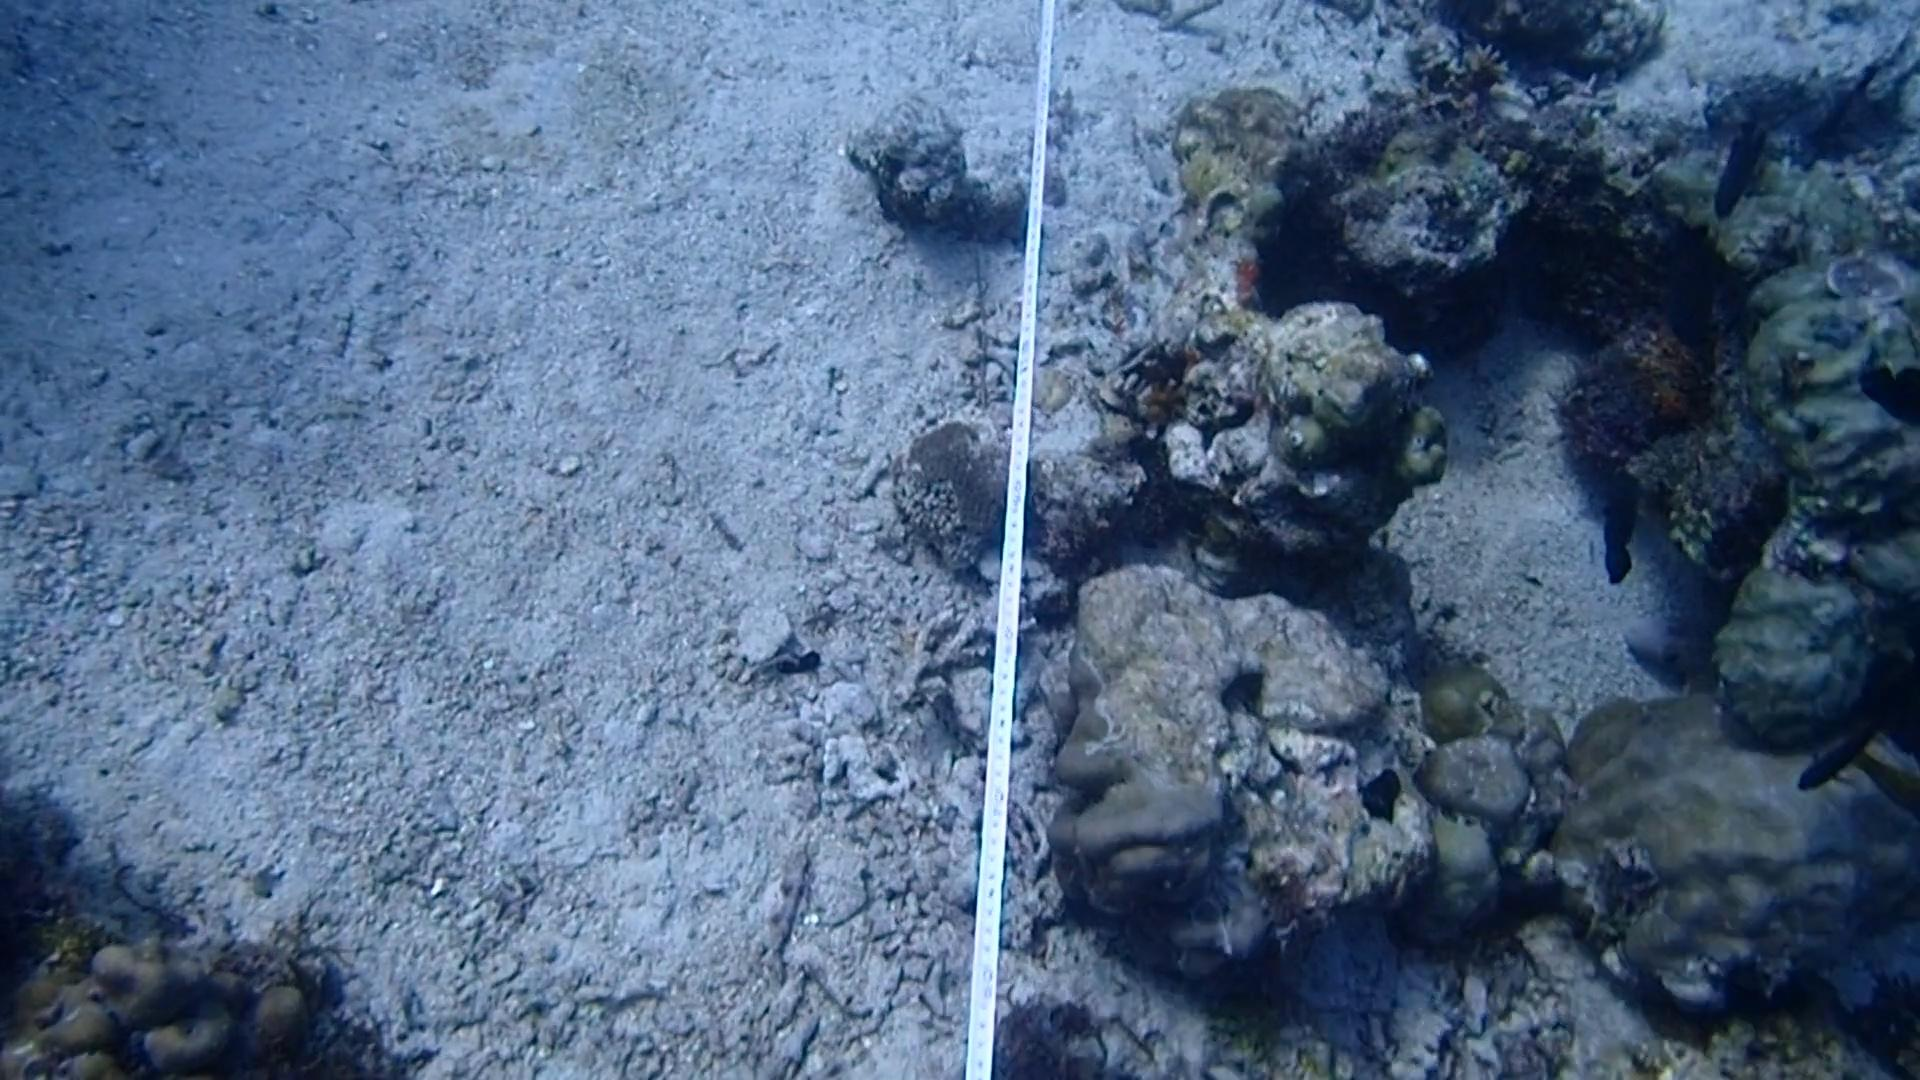Dark Fish: (1793, 698, 1884, 807), (1586, 467, 1654, 585), (1700, 111, 1768, 224), (1861, 349, 1920, 444)
